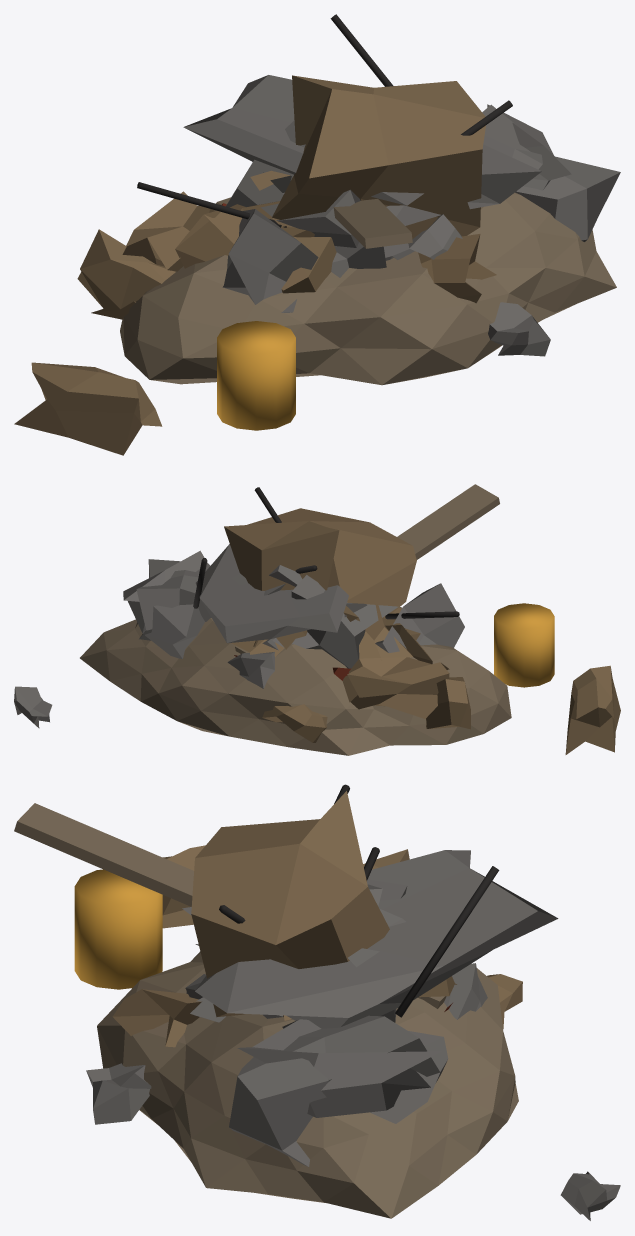
File: cover_rubble_5.glb
3 views of the same model, one above another, from view 1: azimuth 30°, elevation 25°; view 2: azimuth 150°, elevation 25°; view 3: azimuth 270°, elevation 25° (orthographic). The views are drawn at different scales.
Parts seen in each view (by area): view 1: mound, lump_26, slab, lump_25, bucket, lump_1, lump_6, lump_18, lump_30, lump_11, lump_5, lump_35 (+7 smaller); view 2: mound, lump_26, slab, lump_5, bucket, lump_25, lump_4, plank, lump_11, lump_6, lump_1, lump_18 (+8 smaller); view 3: mound, lump_26, slab, lump_1, bucket, lump_4, plank, lump_35, lump_12, lump_22, rebar_1, lump_7 (+4 smaller).
Boxes of the visible parts, <box> form: mound: <box>120,192,616,385</box>; lump_26: <box>250,75,485,243</box>; slab: <box>183,75,541,225</box>; lump_25: <box>14,362,162,455</box>; bucket: <box>217,321,295,430</box>; lump_1: <box>482,104,620,241</box>; lump_6: <box>222,209,318,312</box>; lump_18: <box>77,229,175,319</box>; lump_30: <box>175,211,336,293</box>; lump_11: <box>225,120,360,247</box>; lump_5: <box>122,191,214,271</box>; lump_35: <box>418,234,496,303</box>; mound: <box>80,607,511,755</box>; lump_26: <box>224,508,416,621</box>; slab: <box>195,544,367,643</box>; lump_5: <box>342,657,449,718</box>; bucket: <box>494,603,554,687</box>; lump_25: <box>565,665,620,754</box>; lump_4: <box>123,550,210,658</box>; plank: <box>235,484,499,653</box>; lump_11: <box>272,575,398,668</box>; lump_6: <box>375,583,464,652</box>; lump_1: <box>136,559,211,640</box>; lump_18: <box>426,677,470,729</box>; mound: <box>97,951,518,1218</box>; lump_26: <box>191,791,389,1017</box>; slab: <box>182,850,558,1028</box>; lump_1: <box>229,1015,440,1166</box>; bucket: <box>74,869,162,989</box>; lump_4: <box>237,1019,448,1117</box>; plank: <box>14,803,446,1008</box>; lump_35: <box>112,989,201,1047</box>; lump_12: <box>86,1063,151,1124</box>; lump_22: <box>560,1171,620,1220</box>; rebar_1: <box>395,866,499,1017</box>; lump_7: <box>444,963,487,1019</box>.
Size of the model in its own units: 2.79 by 1.04 by 2.07.
